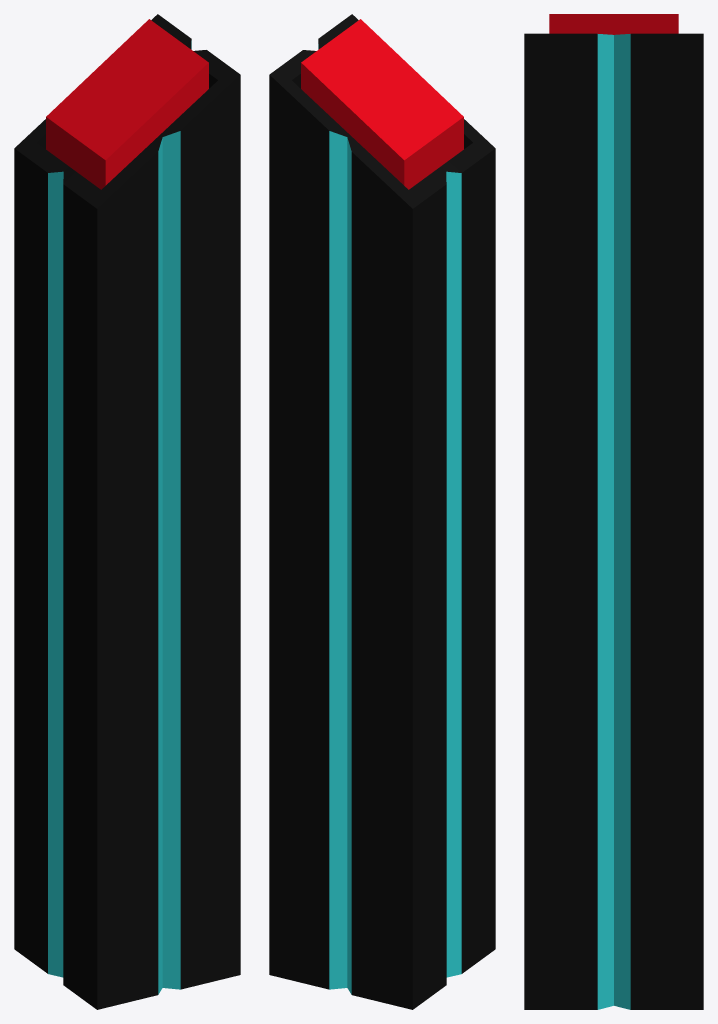
File: button_FBX.fbx
3 renders of one model, left to right at view 1: azimuth 30°, elevation 25°; view 2: azimuth 150°, elevation 25°; view 3: azimuth 270°, elevation 25°, orthographic. The views are drawn at different scales.
Parts seen in each view (by area): view 1: Obelisk, Button; view 2: Obelisk, Button; view 3: Obelisk, Button.
Part boxes in pixels (bbox=[...]): Obelisk: bbox=[14, 14, 240, 1009]; Button: bbox=[46, 19, 208, 189]; Obelisk: bbox=[269, 14, 495, 1009]; Button: bbox=[301, 19, 463, 189]; Obelisk: bbox=[524, 33, 703, 1009]; Button: bbox=[549, 14, 678, 34].
Bounding box in the file's own units: 50 × 303 × 50.
